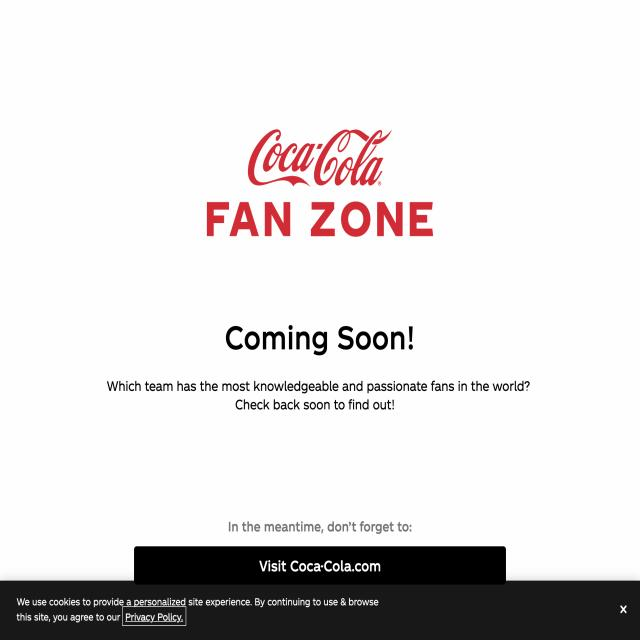Logo: (218, 113, 400, 197)
